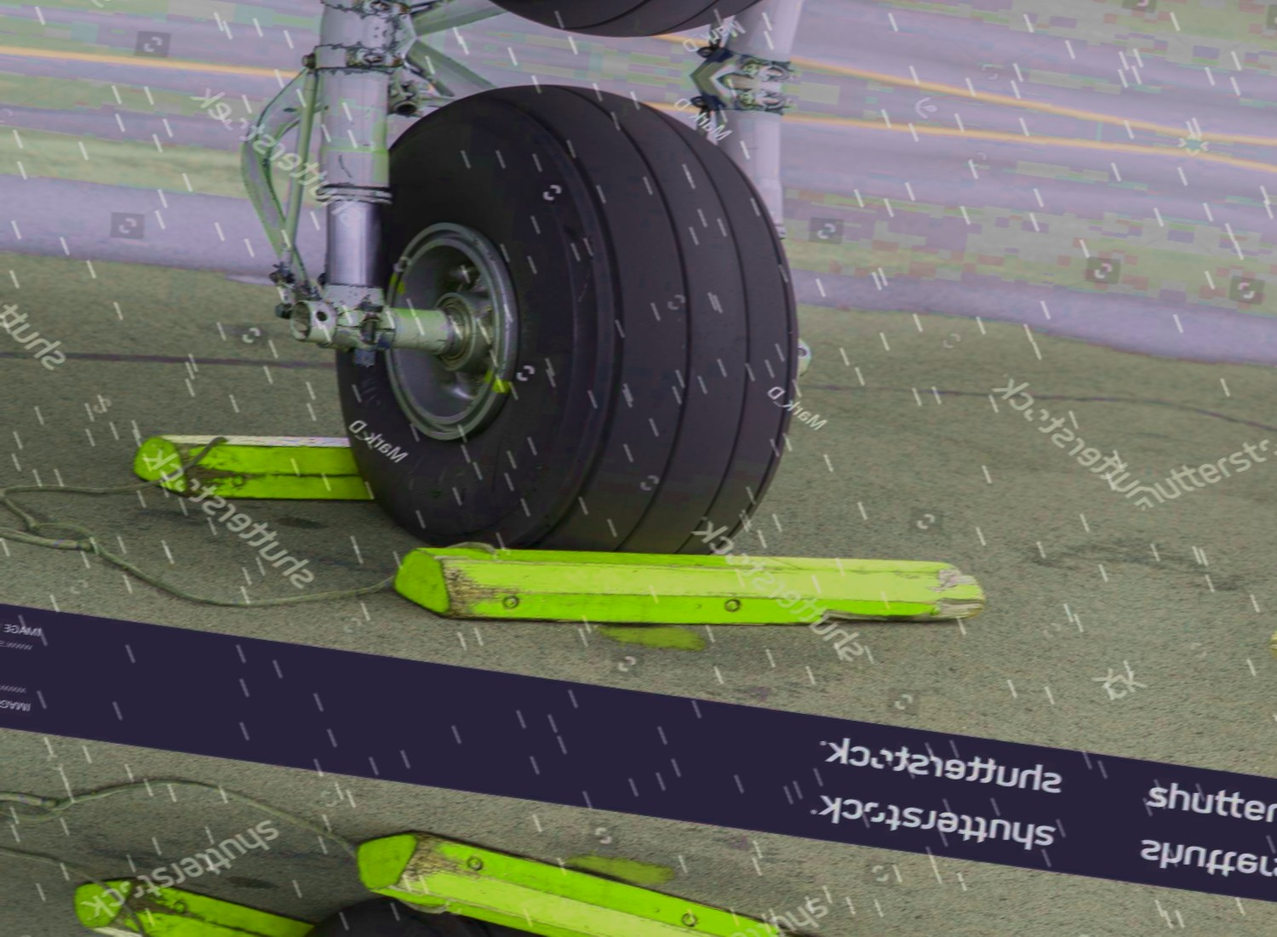chock: (380, 484, 993, 690), (334, 824, 947, 937), (126, 406, 551, 546), (63, 870, 487, 937)
wheel: (335, 57, 835, 596)
